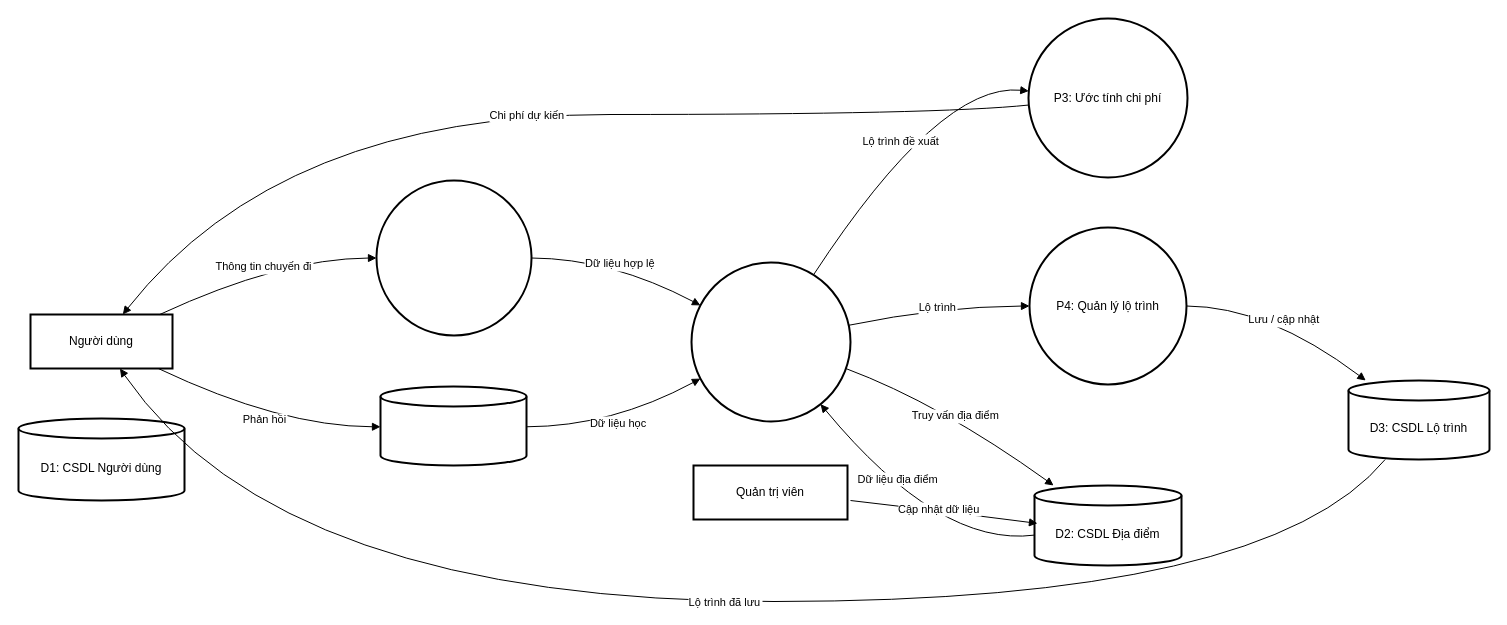
Image size: 1507x625. Some labels were removed from this diagram. Here are the shapes that lost their labels. From the top down, the centre of each, then its label:
point (453, 257): P1: Nhập & xử lý; xử lý thông tin chuyến đi
point (770, 341): P2: Đề xuất lộ trình bằng AI
point (453, 425): D4: CSDL Phản hồi
